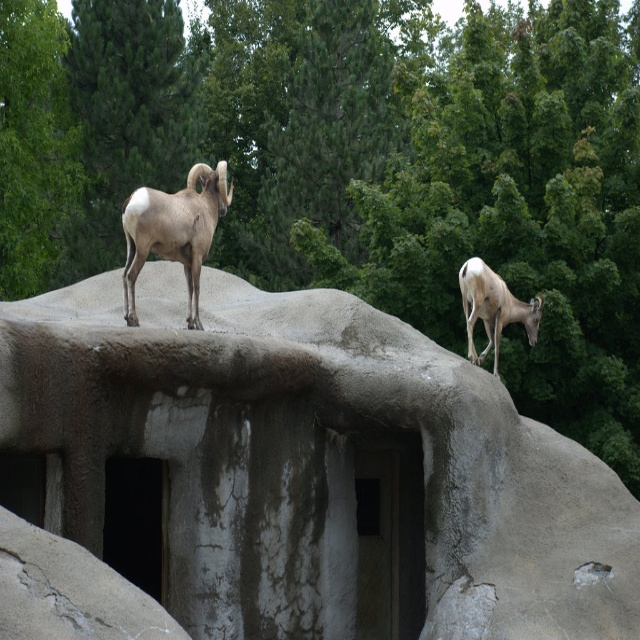Sheep: (123, 163, 233, 332)
